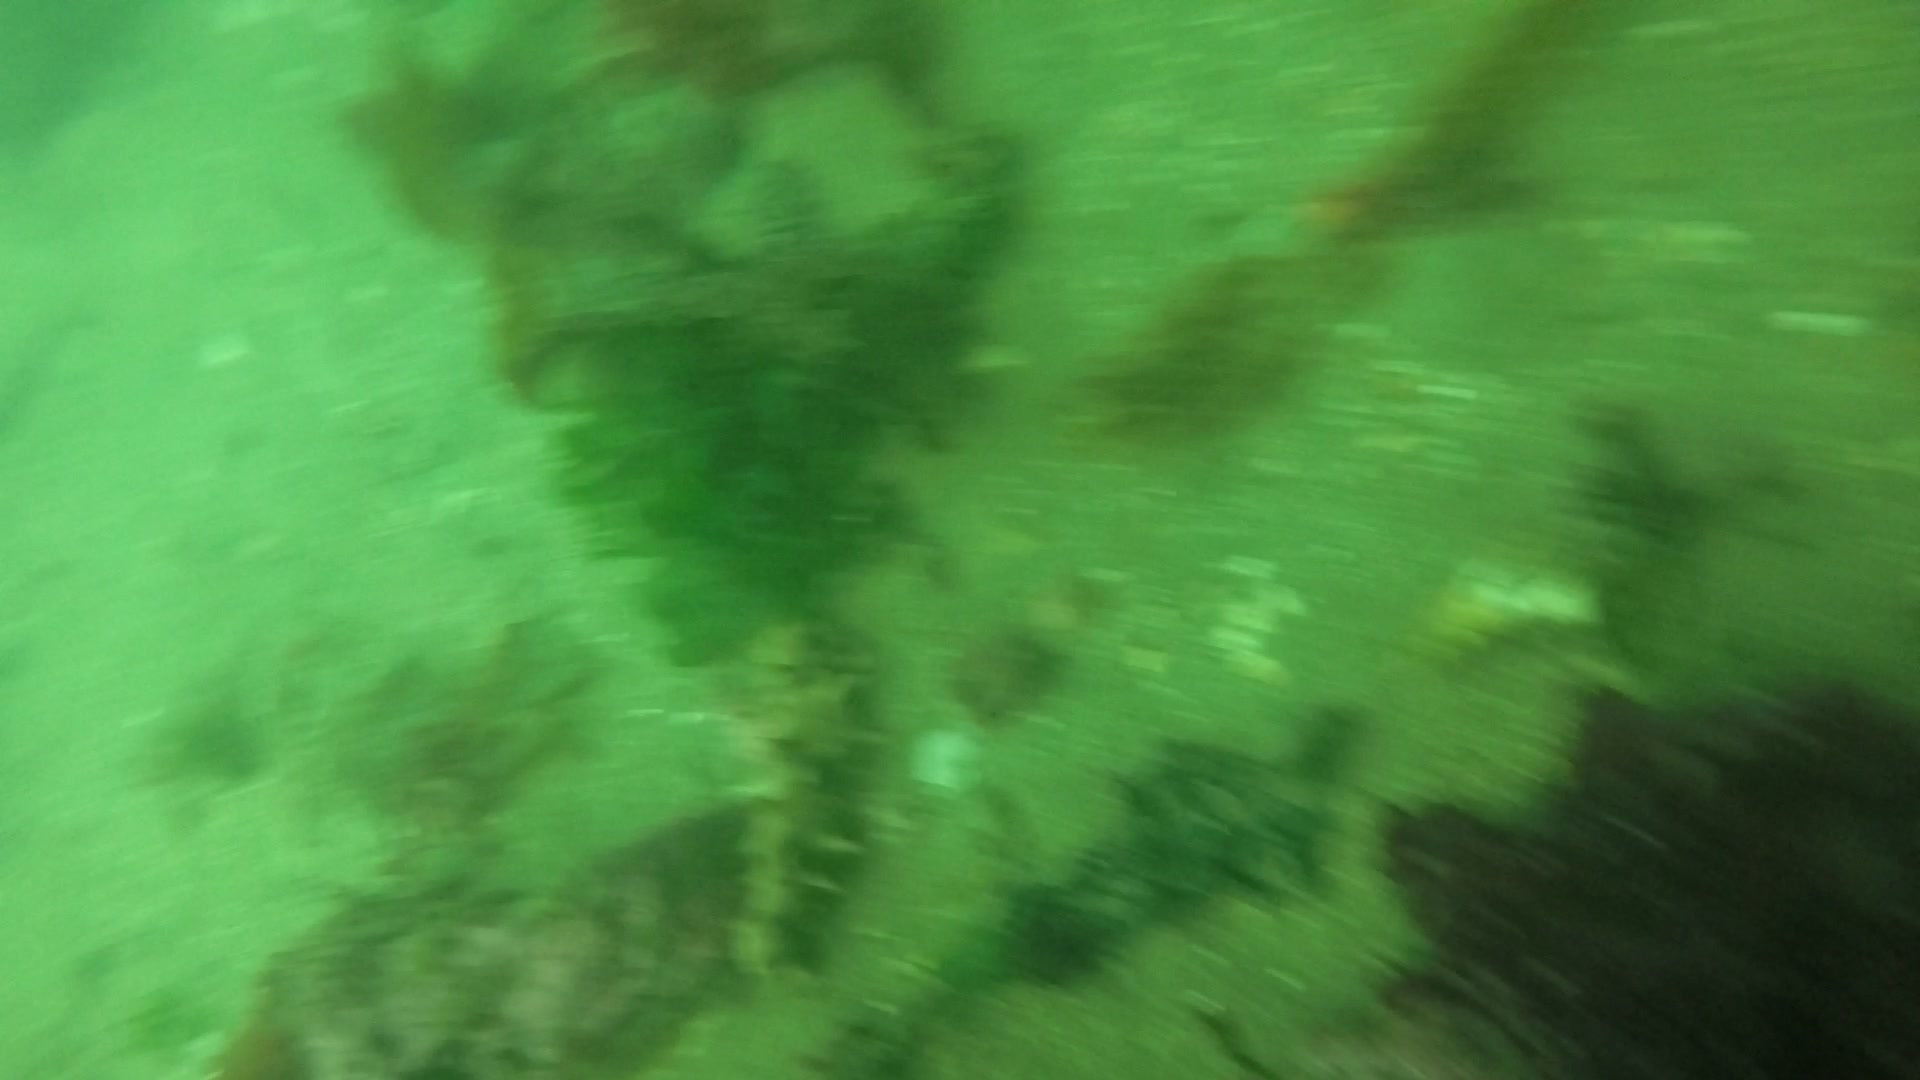holothurian: (708, 624, 865, 978)
